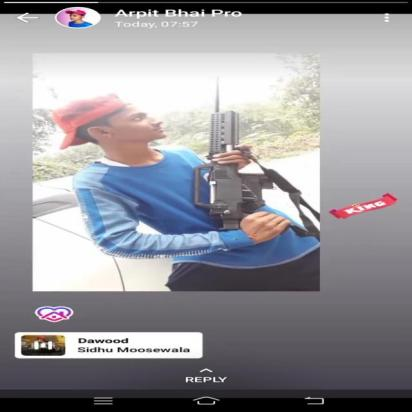Gun: (190, 73, 281, 231)
